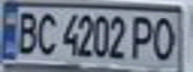0: (93, 11, 112, 60)
2: (106, 11, 130, 61), (75, 10, 96, 60)
4: (57, 10, 81, 57)
B: (9, 8, 42, 56)
C: (33, 9, 60, 56)
O: (148, 14, 184, 61)
P: (127, 12, 160, 61)
